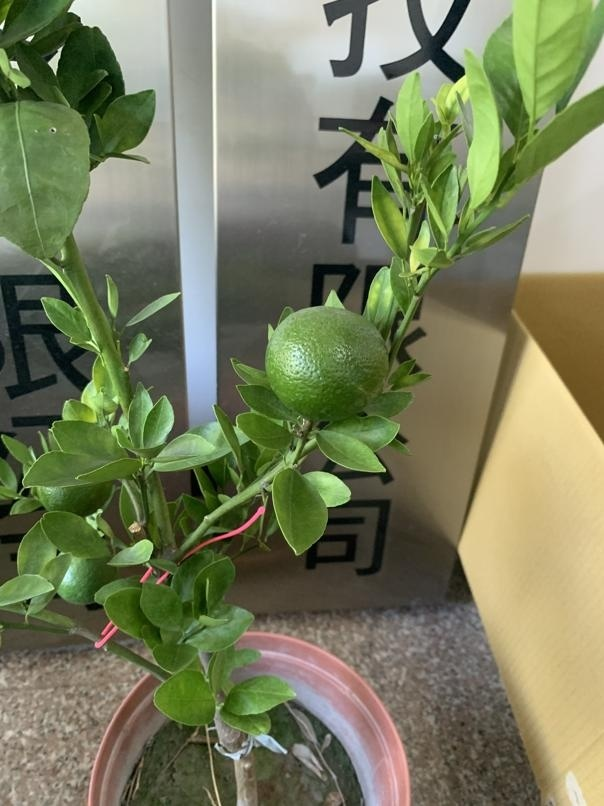Tangerine: (262, 302, 393, 428)
